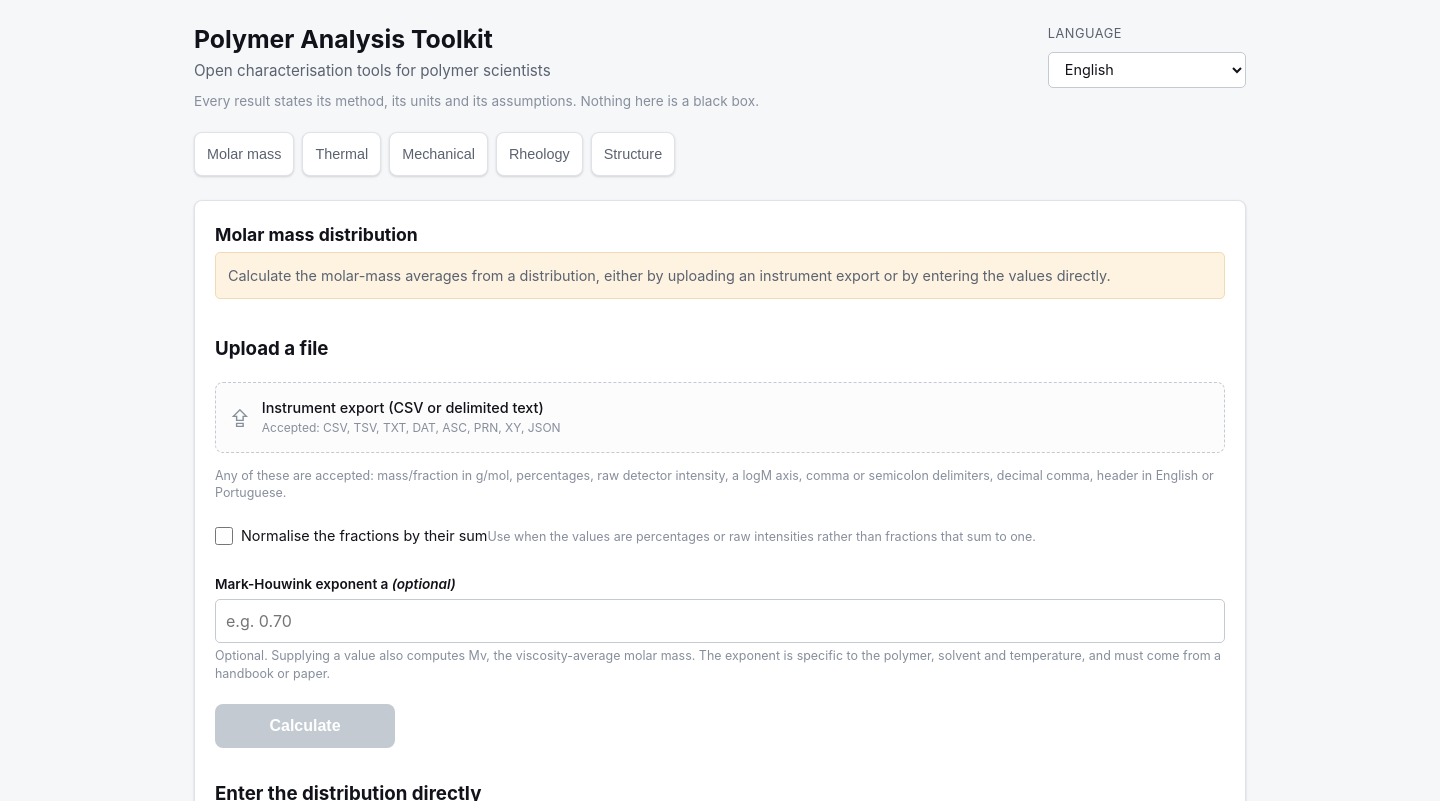
Test: thermal mode clarity › switching to DSC changes what the panel says it will do
Click the button "Thermal" at (342, 154), box [302,132,381,176]
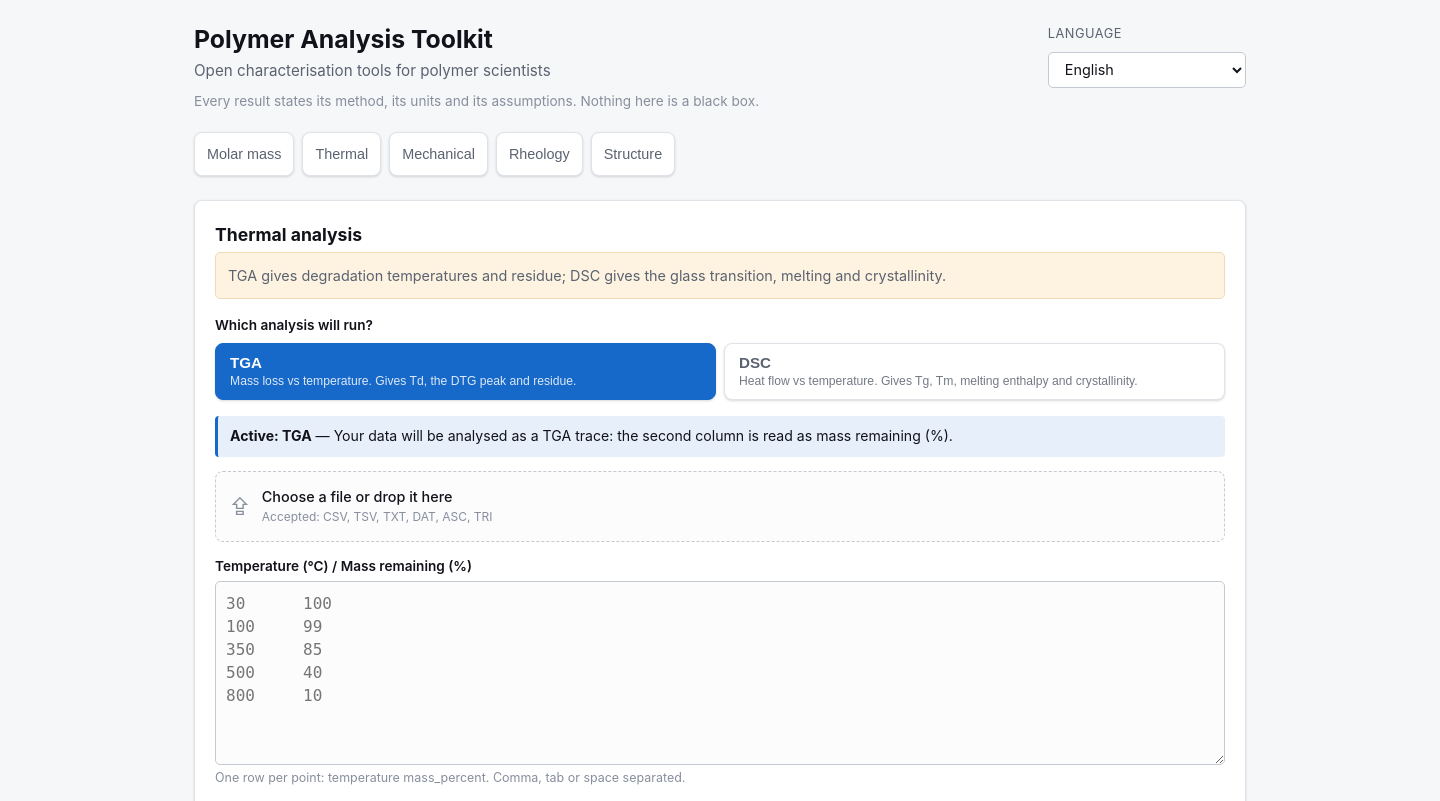
Click the tab "DSC" at (974, 371), box [724,342,1225,400]
(page scrolled)
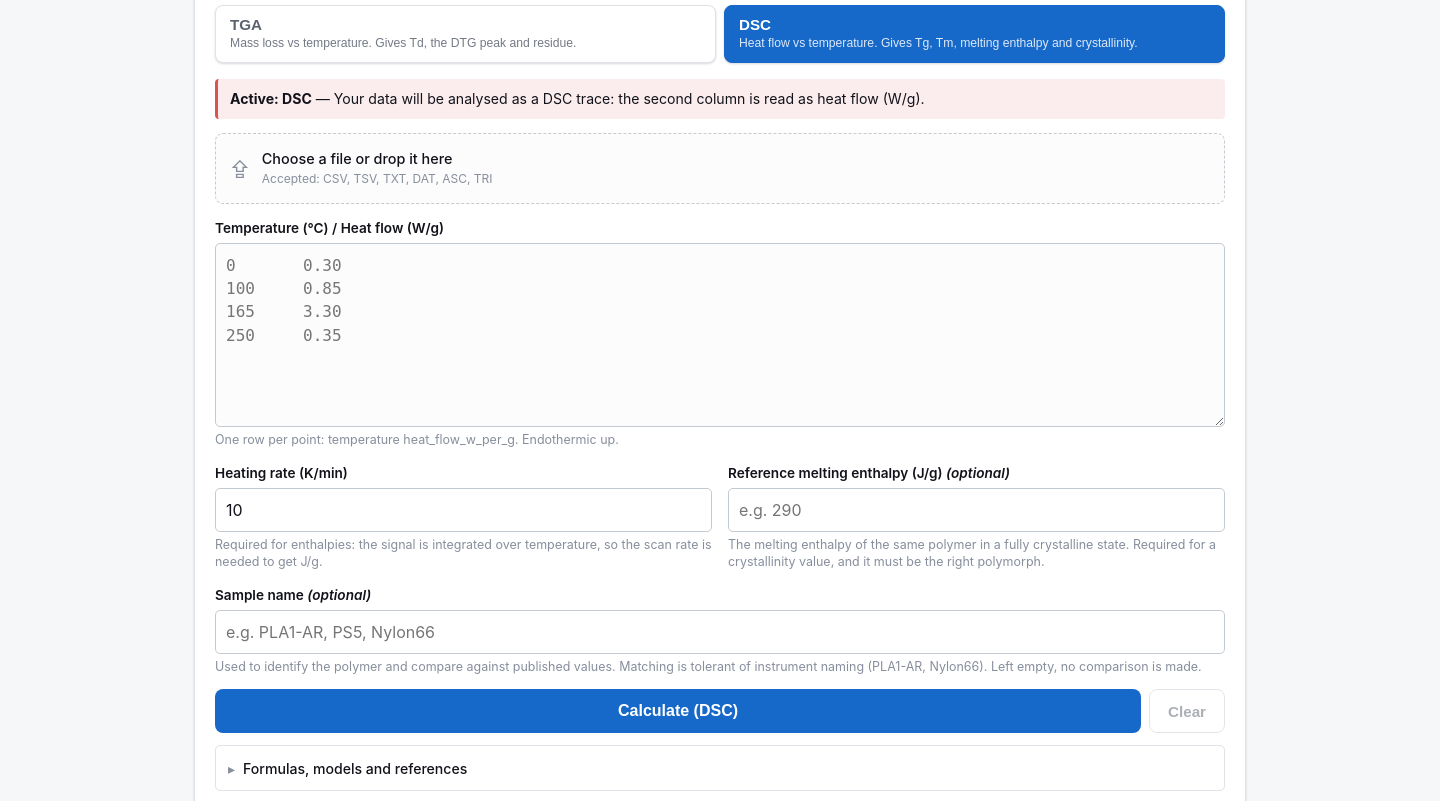
expect the element that starts with "Active: DSC" is shown: met, box [230,90,312,107]
expect the text "read as mass remaining" is gone: met
expect the element that starts with "Active: DSC" shows "read as heat flow": met, box [334,90,925,107]
